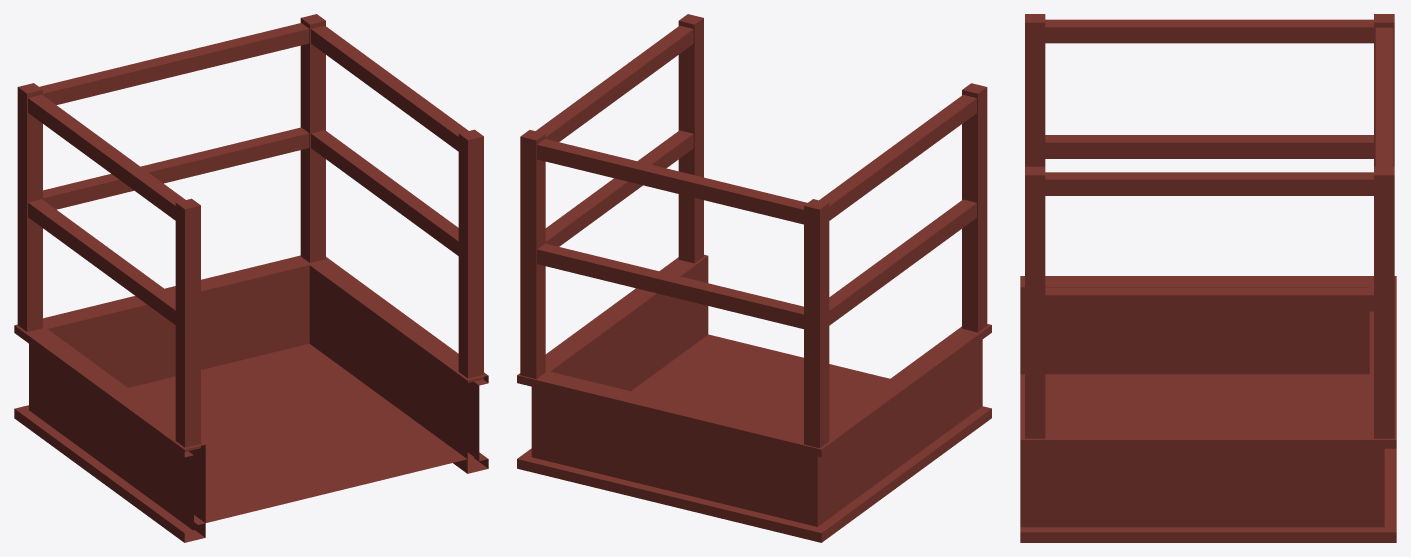
File: Industrial catwalk walk way 8.fbx
3 renders of one model, left to right at view 1: azimuth 30°, elevation 25°; view 2: azimuth 150°, elevation 25°; view 3: azimuth 270°, elevation 25°, orthographic. The views are drawn at different scales.
Visible parts, largest first — view 1: polySurface157; view 2: polySurface157; view 3: polySurface157.
Boxes of the visible parts, x1=… form: polySurface157: x1=14, y1=14, x2=488, y2=542; polySurface157: x1=517, y1=14, x2=991, y2=542; polySurface157: x1=1020, y1=14, x2=1396, y2=542.
Size of the model in its own units: 129 by 134 by 125.
